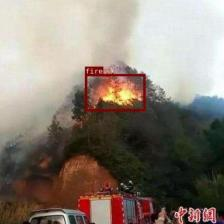fire: (84, 73, 145, 111)
